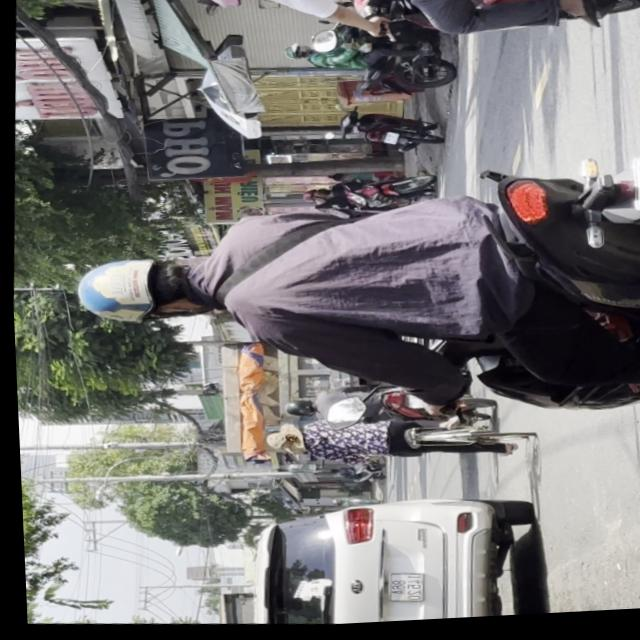helmet: (69, 248, 215, 330), (279, 399, 311, 420)
licenseplate: (61, 137, 640, 447), (147, 0, 640, 65)
